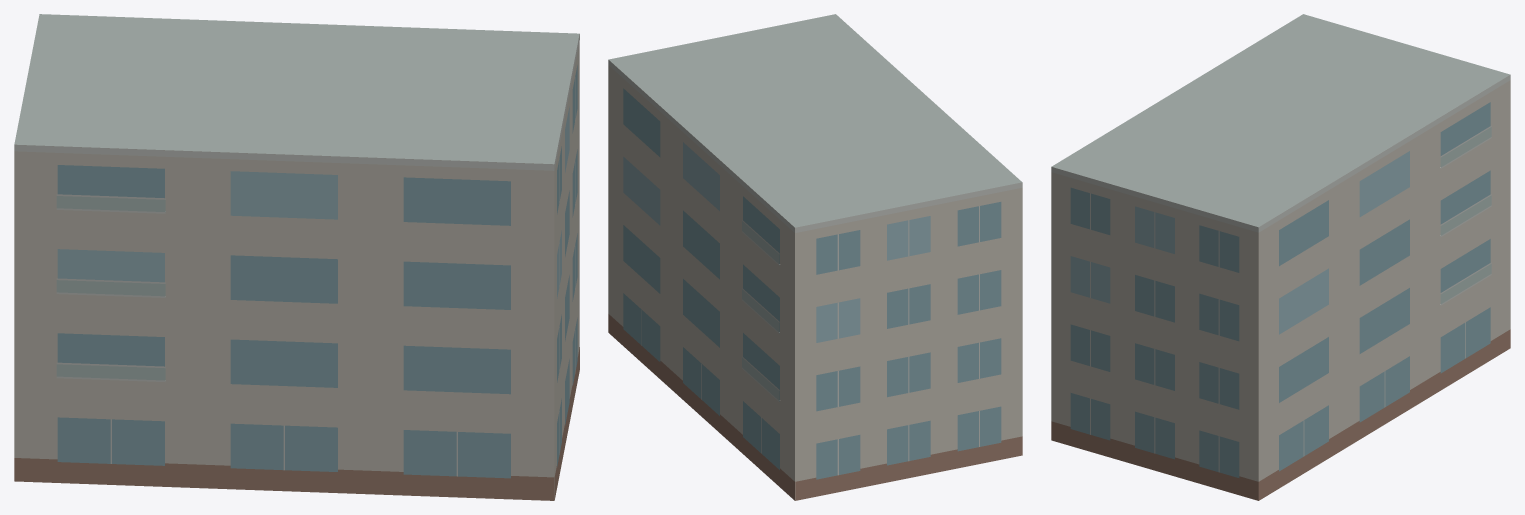
The model's file is survey-upis-32775805.glb.
3 renders of one model, left to right at view 1: azimuth 30°, elevation 25°; view 2: azimuth 150°, elevation 25°; view 3: azimuth 270°, elevation 25°, orthographic. The views are drawn at different scales.
Visible parts, largest first — view 1: survey-upis-32775805.tmp; view 2: survey-upis-32775805.tmp; view 3: survey-upis-32775805.tmp.
Part boxes in pixels (x1,y1,x2,y2): survey-upis-32775805.tmp: [14, 14, 579, 500]; survey-upis-32775805.tmp: [608, 14, 1022, 500]; survey-upis-32775805.tmp: [1051, 14, 1510, 500].
Bounding box in the file's own units: 20.57 × 12.3 × 18.72.
